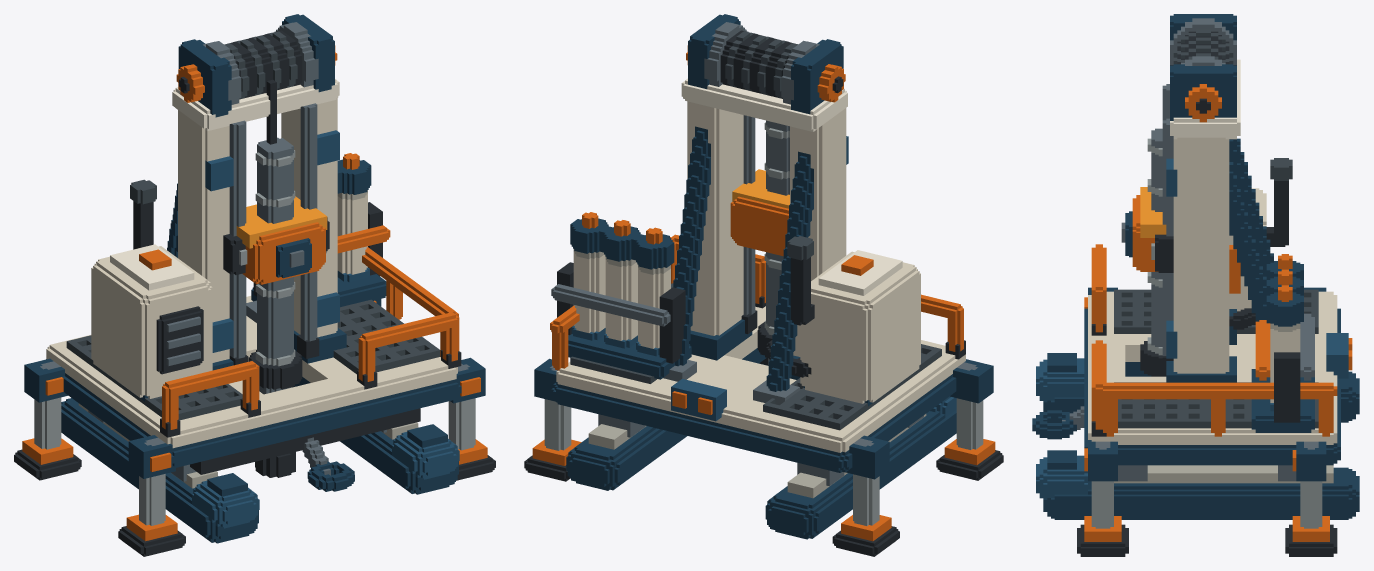
The model's file is ice_core_drill.glb.
The picture shows the model from 3 angles, left to right: view 1: azimuth 30°, elevation 25°; view 2: azimuth 150°, elevation 25°; view 3: azimuth 270°, elevation 25°; orthographic projection.
Visible parts, largest first — view 1: ice_core_drill; view 2: ice_core_drill; view 3: ice_core_drill.
Boxes of the visible parts, x1=… form: ice_core_drill: x1=14, y1=14, x2=495, y2=556; ice_core_drill: x1=524, y1=14, x2=1003, y2=556; ice_core_drill: x1=1032, y1=14, x2=1359, y2=556.
Size of the model in its own units: 4.95 by 5.76 by 3.96.
